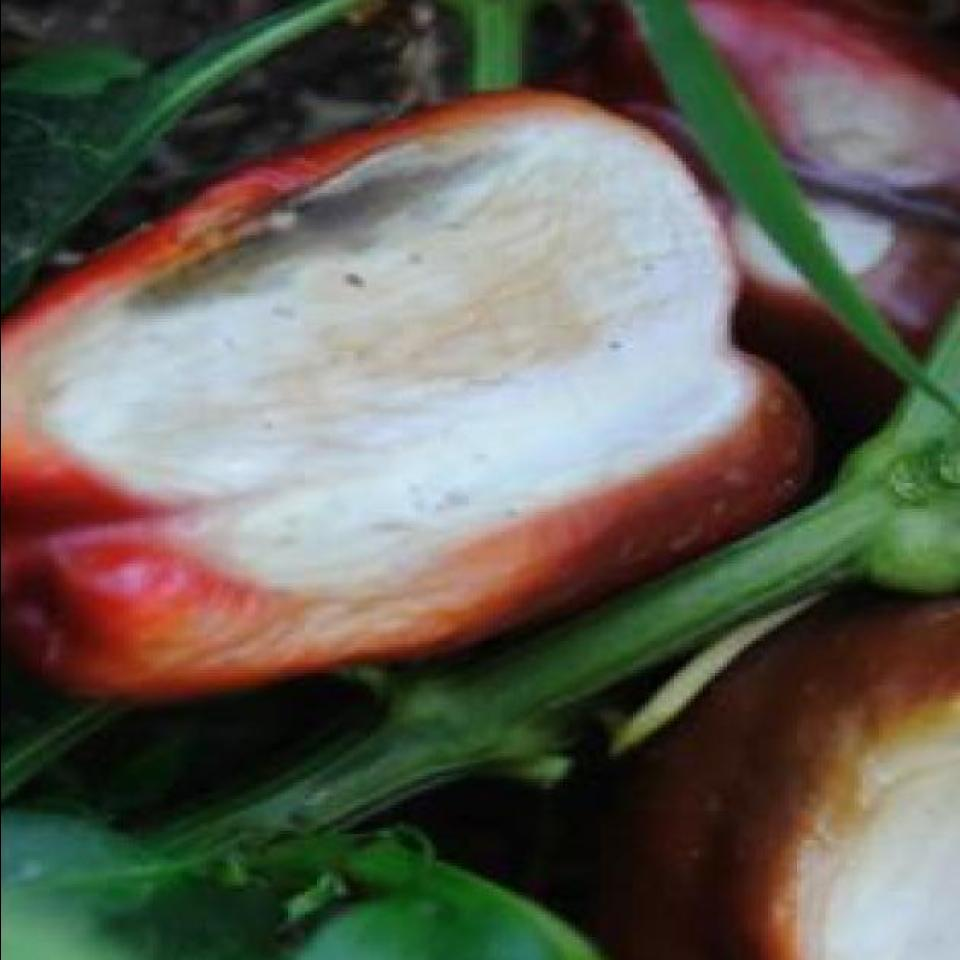Sunscald: (39, 126, 790, 612), (779, 653, 960, 960), (738, 59, 960, 292)
